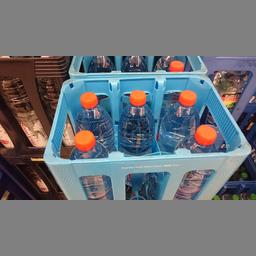water: (169, 124, 216, 196), (68, 132, 110, 196), (116, 88, 156, 153), (72, 88, 115, 146), (158, 86, 198, 148)
